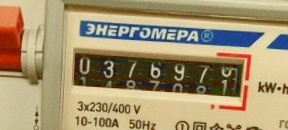0: (77, 54, 91, 75)
1: (218, 77, 230, 95)
3: (101, 57, 115, 78)
6: (148, 57, 162, 79)
7: (124, 57, 138, 78), (196, 62, 209, 84)
9: (172, 60, 185, 82)
screen: (62, 38, 256, 112)
